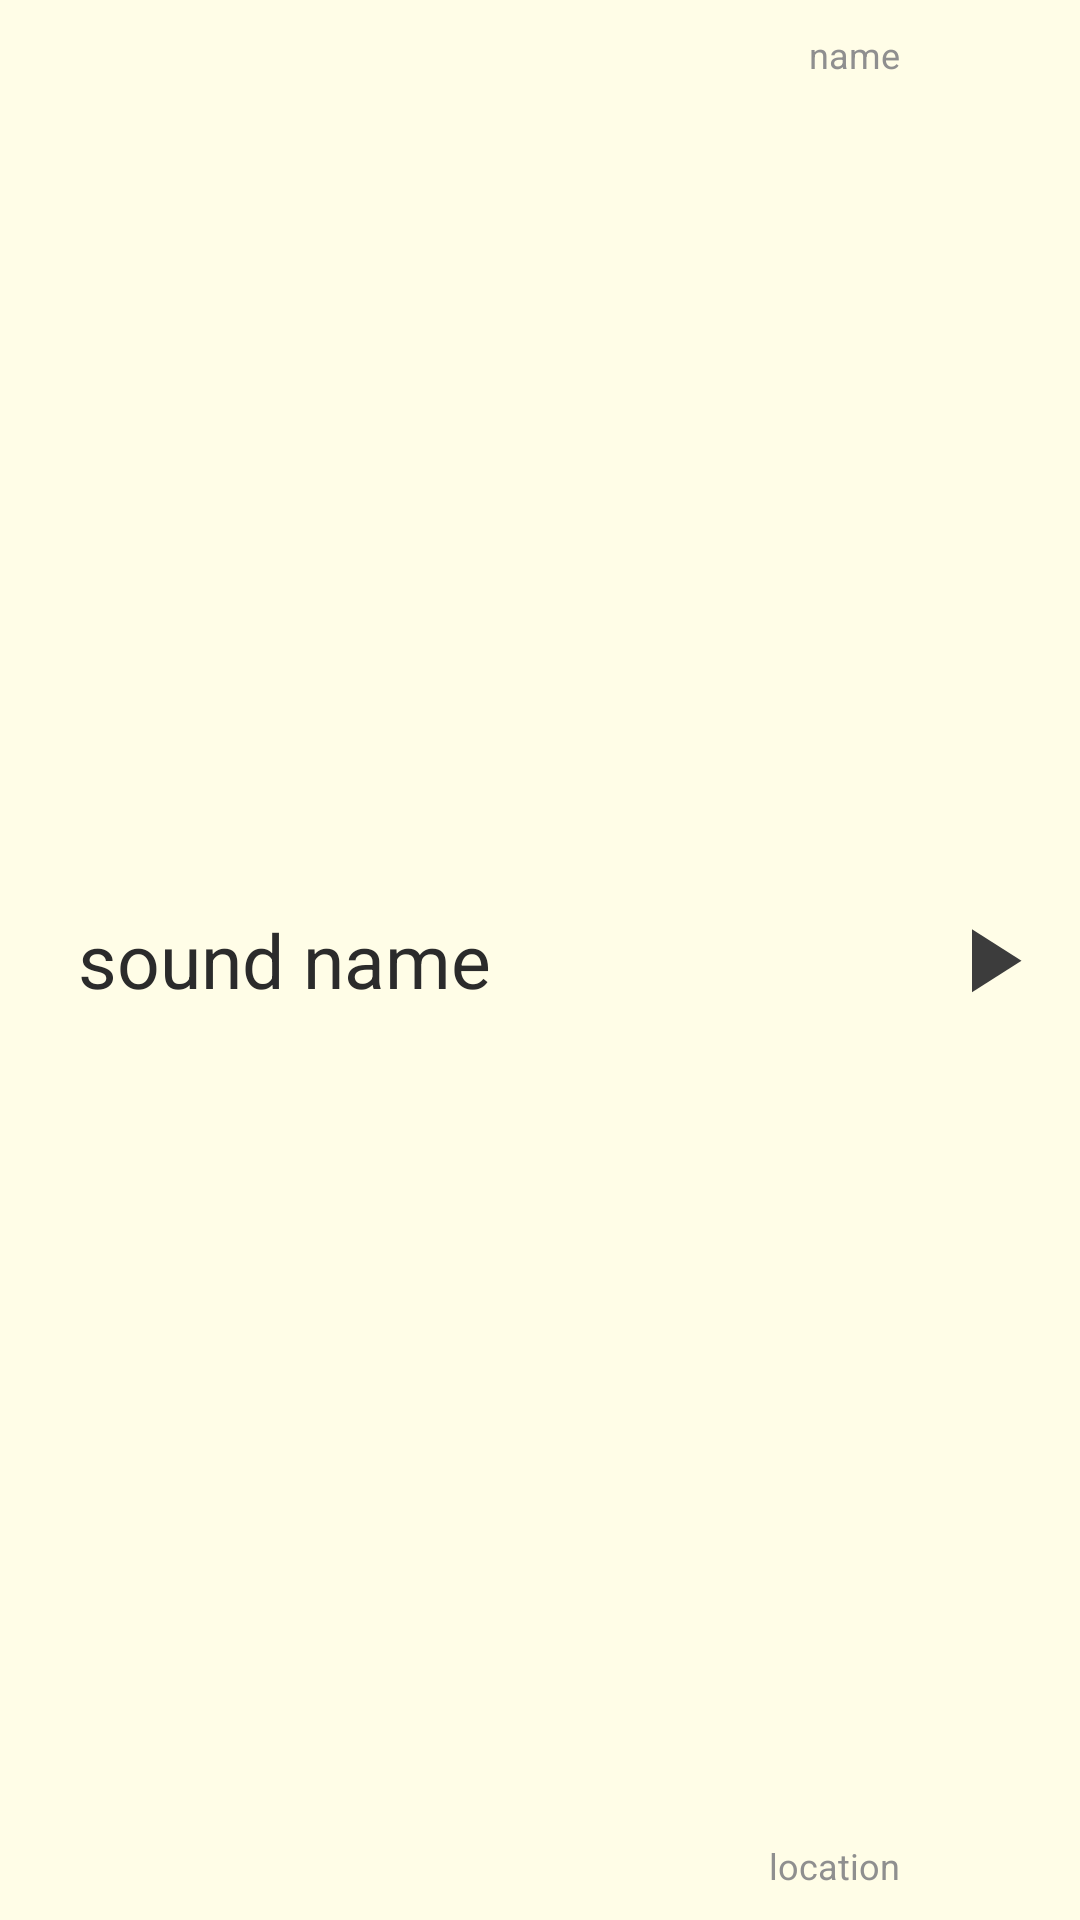

Where to tap for icons on this 1080px×1920px app screen, as (x=x, y=y):
play: (x=997, y=960)
